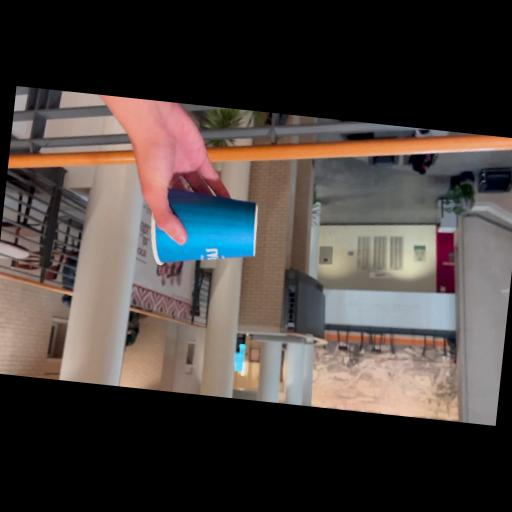lp_paper_cup: (144, 187, 263, 276)
